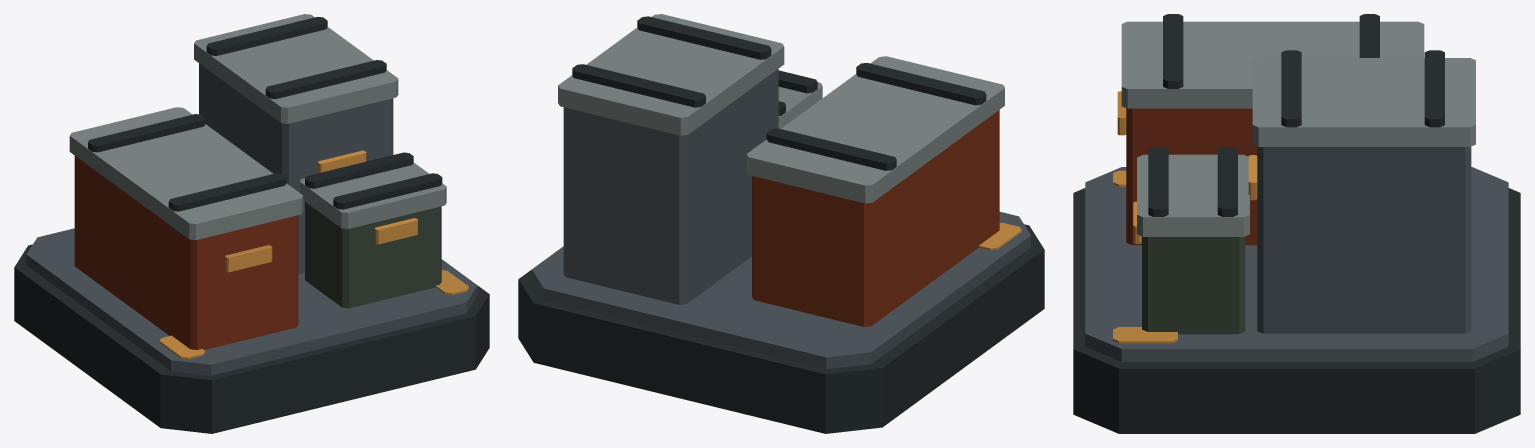
The model's file is storage.glb.
The picture shows the model from 3 angles, left to right: view 1: azimuth 30°, elevation 25°; view 2: azimuth 150°, elevation 25°; view 3: azimuth 270°, elevation 25°; orthographic projection. The views are drawn at different scales.
Visible parts, largest first — view 1: storage; view 2: storage; view 3: storage.
Part boxes in pixels (box(x1,y1,x2,y2)): storage: box(14, 14, 489, 433); storage: box(518, 14, 1044, 433); storage: box(1073, 14, 1520, 433).
Size of the model in its own units: 1.92 by 1.35 by 1.86.
